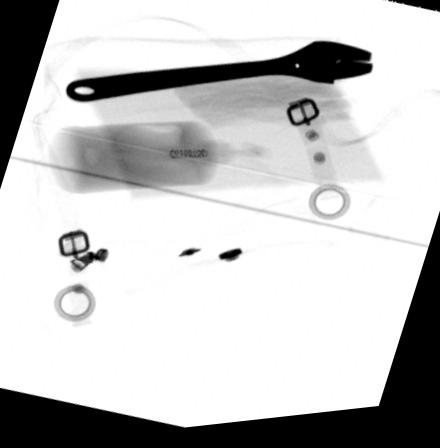Wrench: (63, 46, 373, 105)
